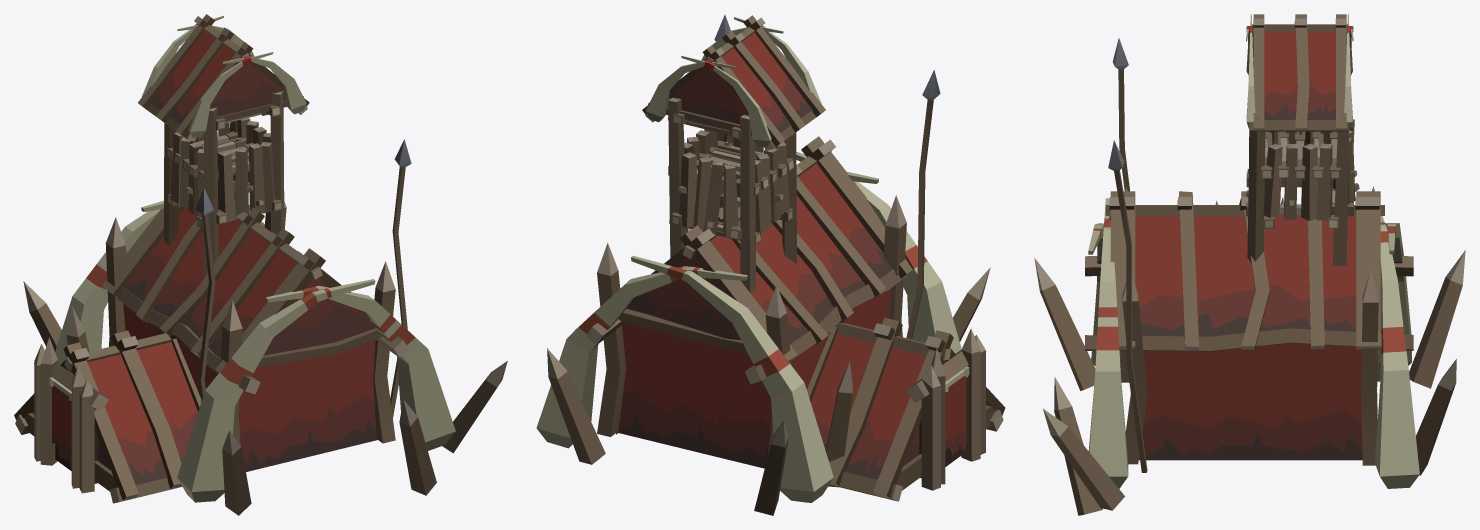
Rendered from Model_Horde_3x3B.fbx.
3 views of the same model, side by side, from view 1: azimuth 30°, elevation 25°; view 2: azimuth 150°, elevation 25°; view 3: azimuth 270°, elevation 25° (orthographic). The views are drawn at different scales.
Visible parts, largest first — view 1: Model_Frost_3x3B; view 2: Model_Frost_3x3B; view 3: Model_Frost_3x3B.
Boxes of the visible parts, bbox=[...] form: Model_Frost_3x3B: bbox=[14, 14, 507, 515]; Model_Frost_3x3B: bbox=[536, 14, 1005, 515]; Model_Frost_3x3B: bbox=[1034, 14, 1465, 515].
Bounding box in the file's own units: 609 × 674 × 589.
1 material, 1 textured.
